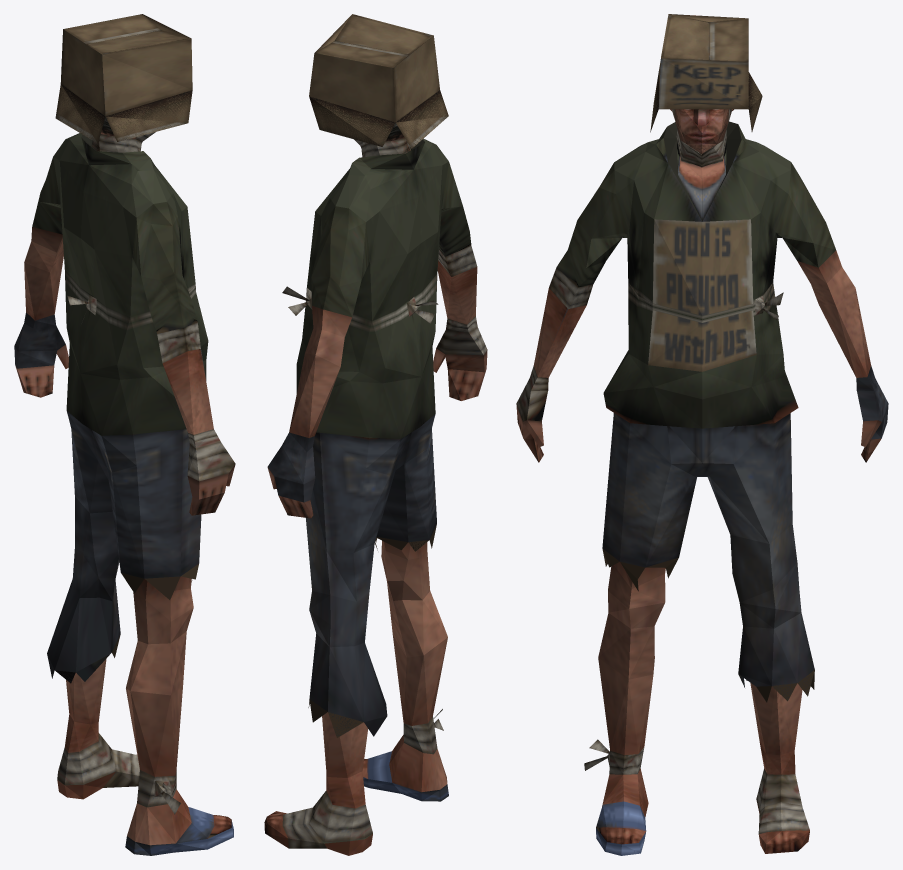
Rendered from swmotr3.obj.
The picture shows the model from 3 angles, left to right: view 1: azimuth 30°, elevation 25°; view 2: azimuth 150°, elevation 25°; view 3: azimuth 270°, elevation 25°; orthographic projection.
Visible parts, largest first — view 1: _Pelvis; view 2: _Pelvis; view 3: _Pelvis.
Boxes of the visible parts, x1,y1,x2,y2 form: _Pelvis: [14, 14, 235, 855]; _Pelvis: [264, 14, 487, 855]; _Pelvis: [516, 14, 888, 855].
Size of the model in its own units: 0.2949 by 1.67 by 0.7136.
1 material, 1 textured.
